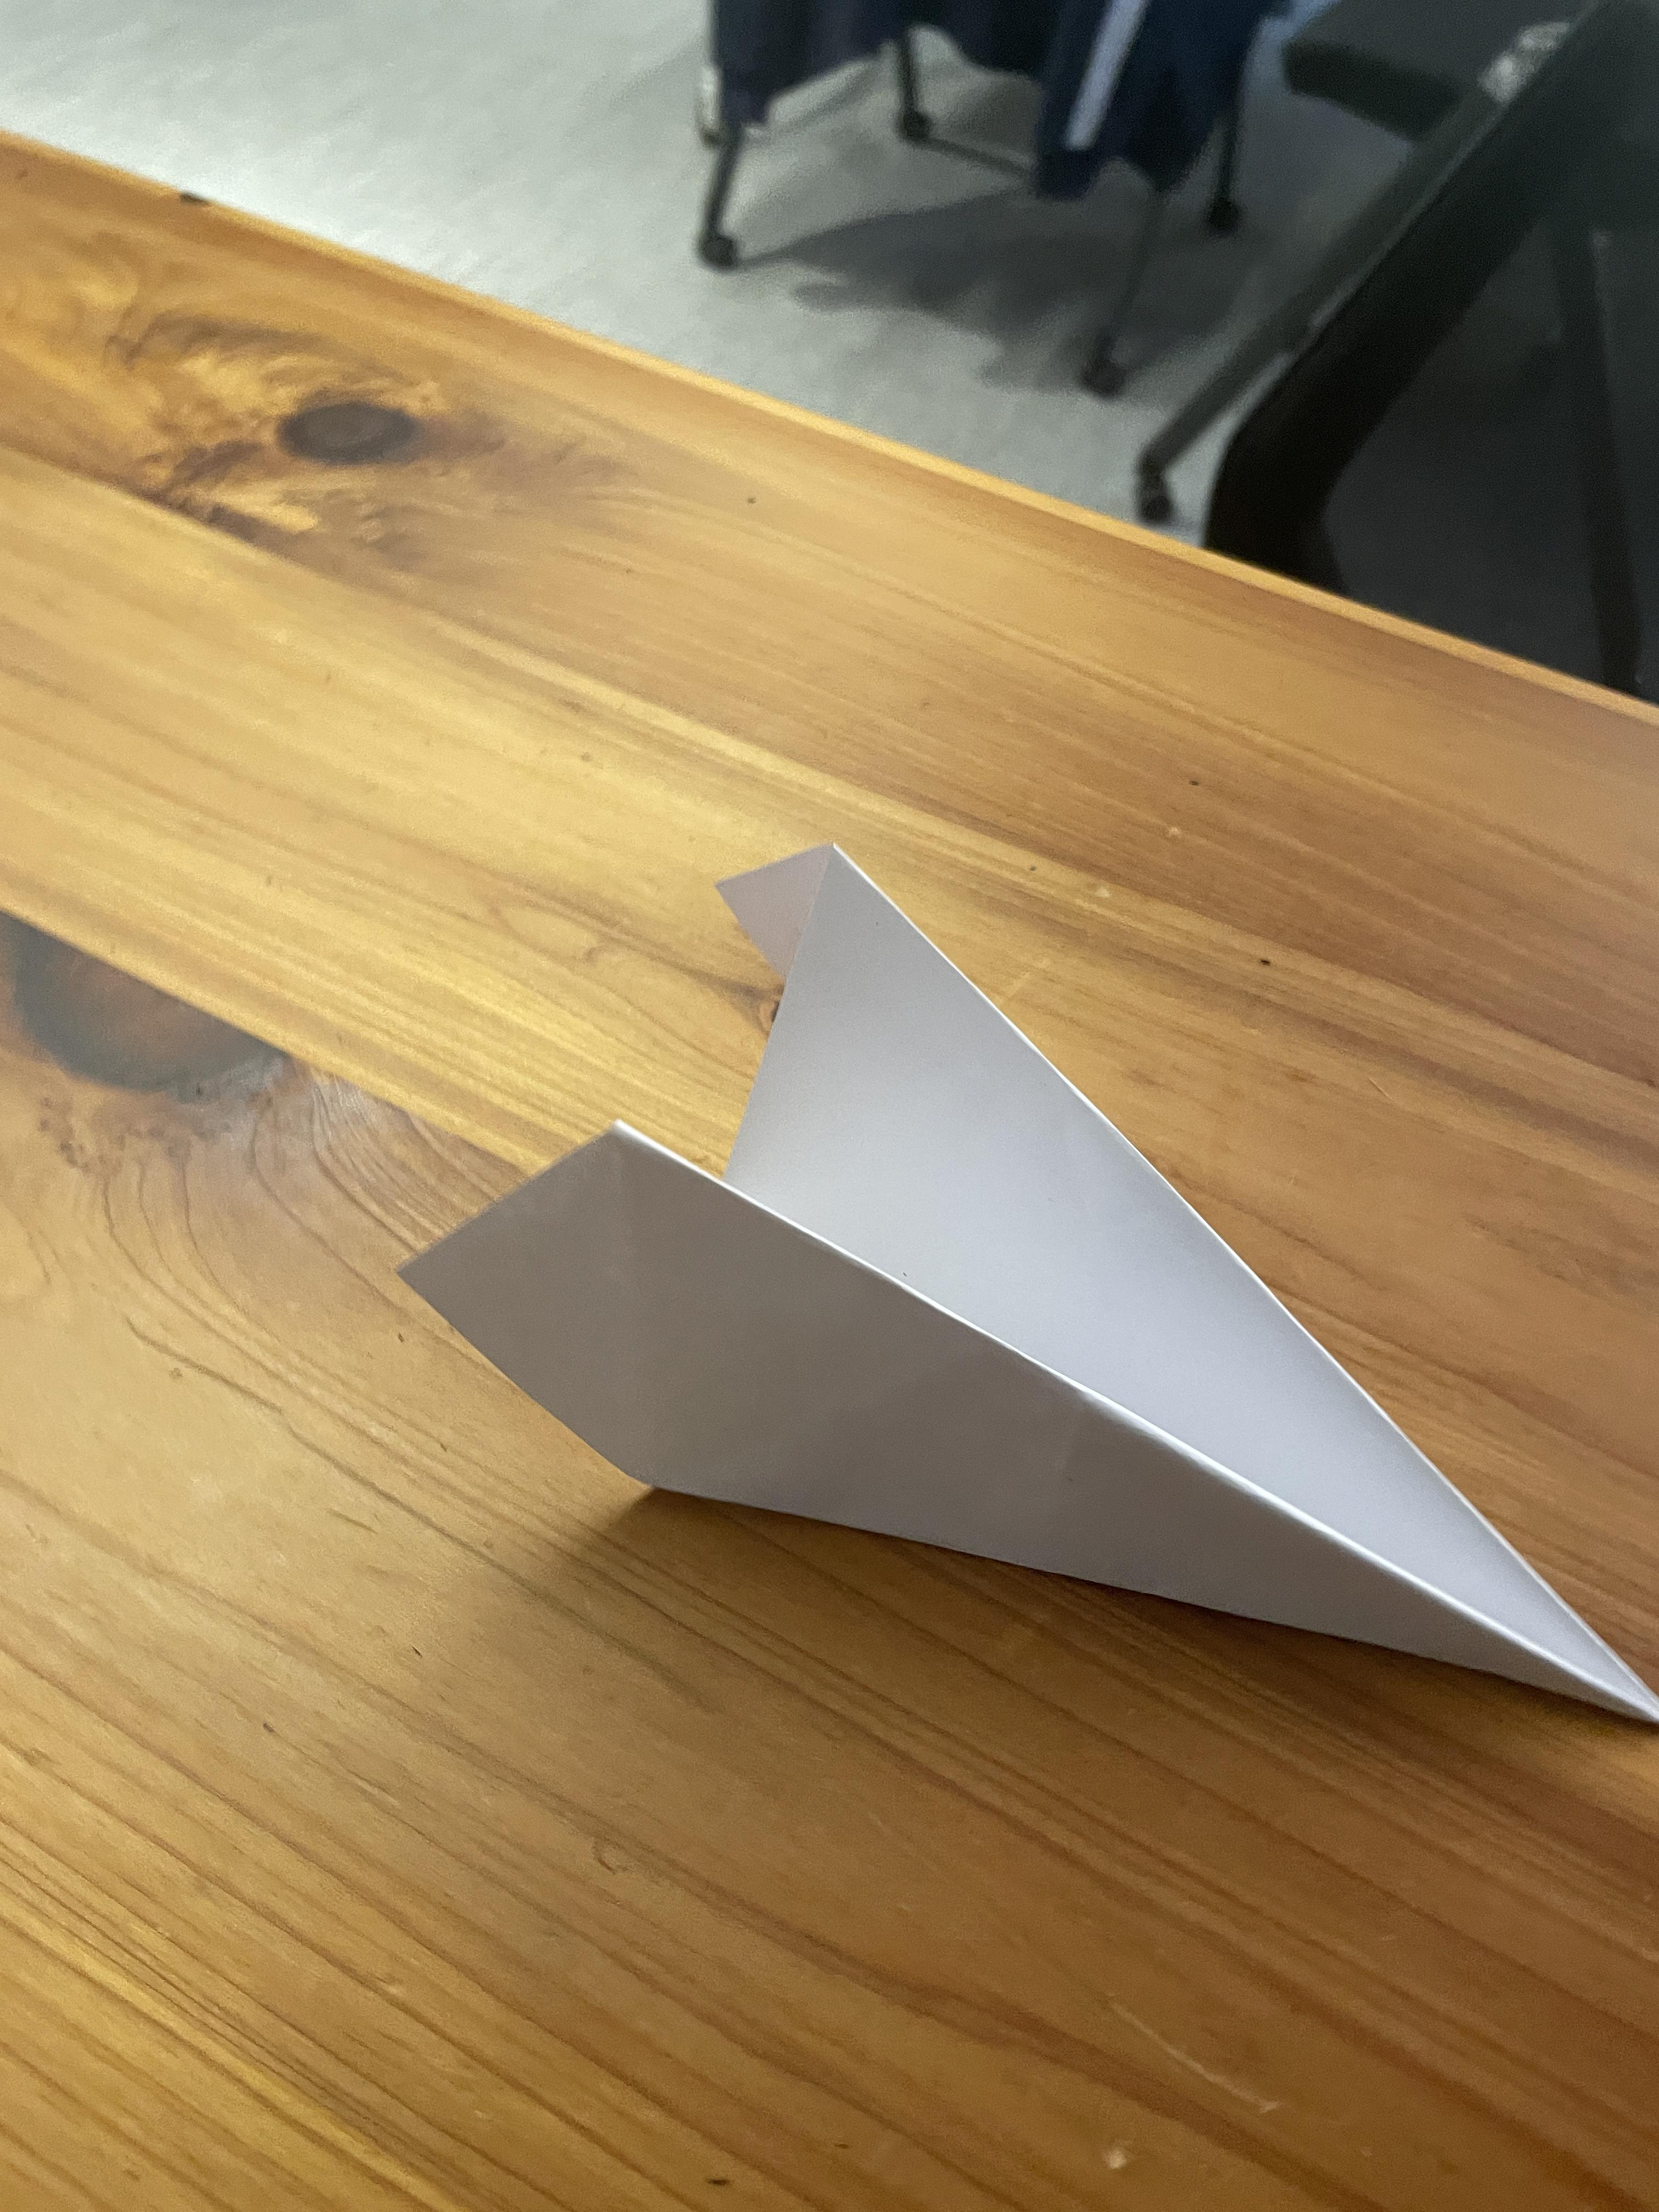shape_3: (301, 719, 1659, 2000)
